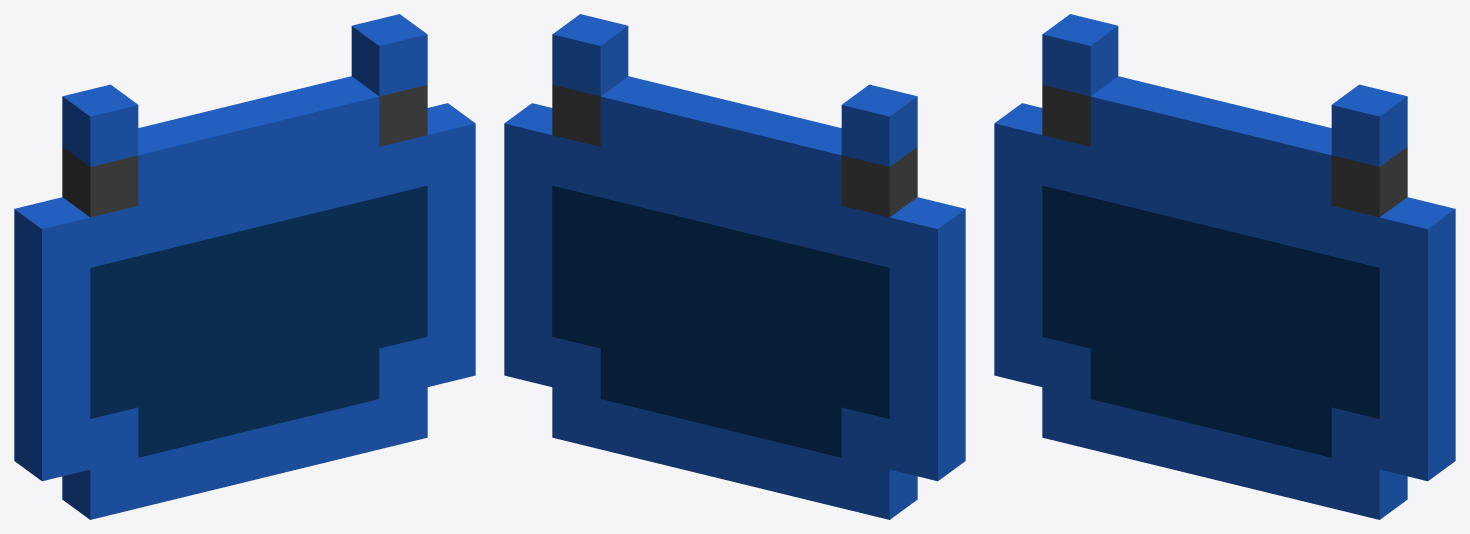
The model's file is bear-6.obj.
3 views of the same model, side by side, from view 1: azimuth 30°, elevation 25°; view 2: azimuth 150°, elevation 25°; view 3: azimuth 330°, elevation 25° (orthographic).
Size of the model in its own units: 0.9 by 0.8 by 0.1.
1 material, 1 textured.
